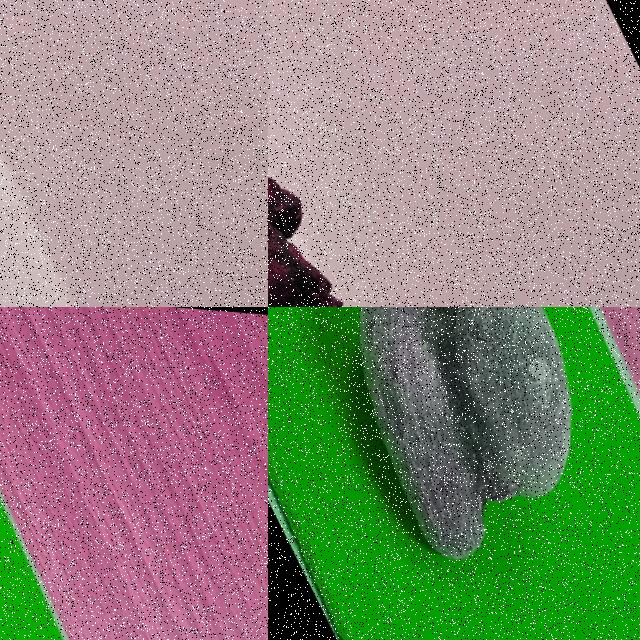Agglomerated_cocoabeans: (268, 307, 639, 639)
Fine_cocoabeans: (0, 368, 115, 639)
Flat_cocoabeans: (268, 107, 449, 306), (0, 119, 148, 306)
